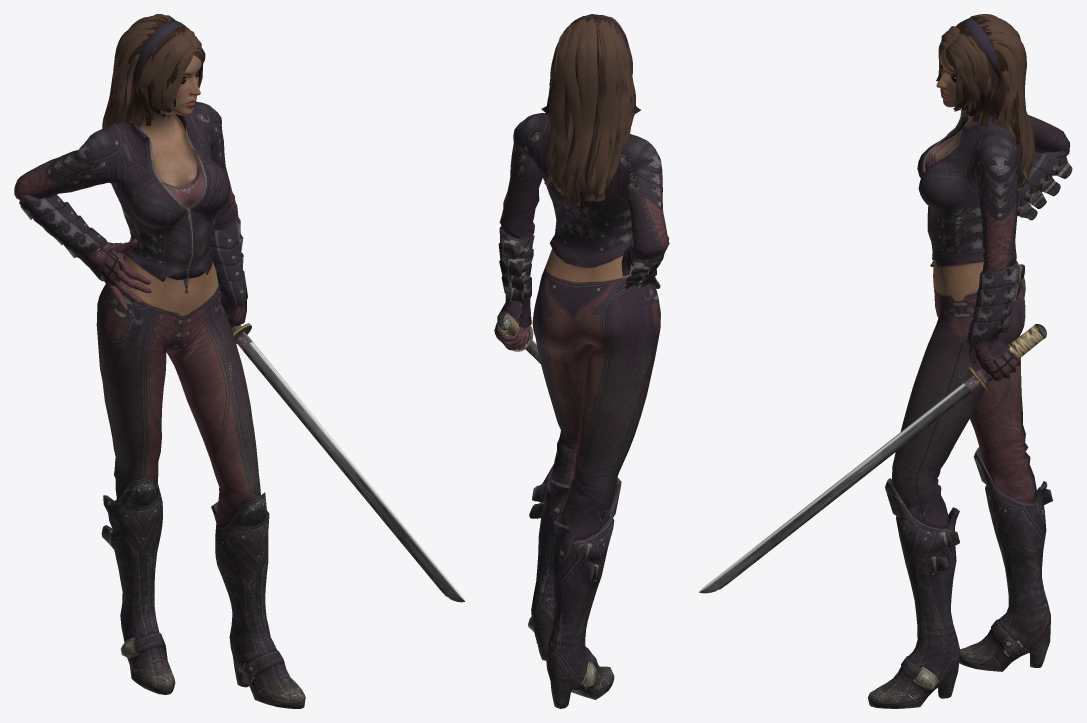
Rendered from Talia.dae.
3 views of the same model, side by side, from view 1: azimuth 30°, elevation 25°; view 2: azimuth 150°, elevation 25°; view 3: azimuth 270°, elevation 25° (orthographic). The views are drawn at different scales.
Visible parts, largest first — view 1: Talia_posed; view 2: Talia_posed; view 3: Talia_posed.
Part boxes in pixels (x1,y1,x2,y2): Talia_posed: (14, 14, 465, 708); Talia_posed: (494, 14, 669, 708); Talia_posed: (699, 14, 1072, 708).
Bounding box in the file's own units: 78.35 × 187 × 97.79.
Materials: 6 (6 with a texture image).
